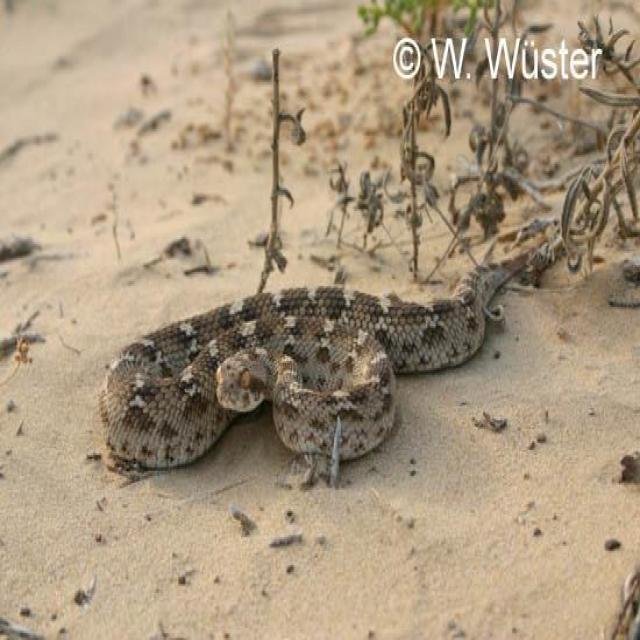Snake: (97, 237, 540, 488)
